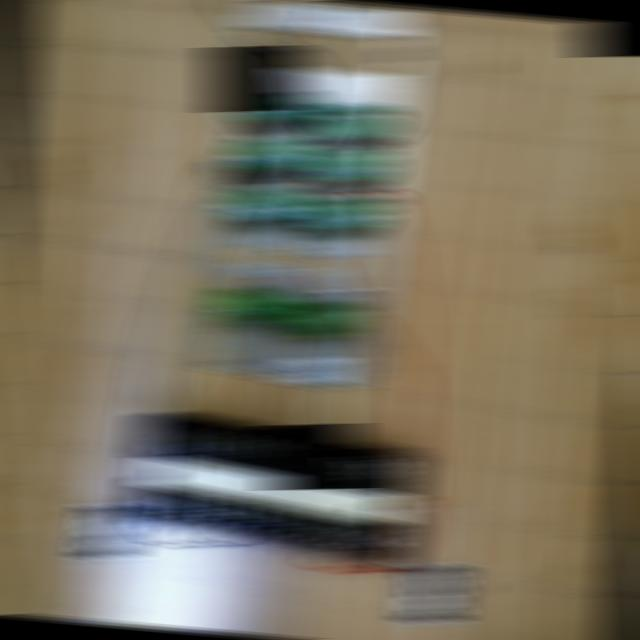Flathead_Block: (124, 408, 428, 570)
Terminal_1: (283, 295, 359, 341), (214, 284, 289, 324)
Terminal_2: (228, 182, 300, 222), (306, 192, 378, 231), (312, 144, 384, 183), (234, 135, 306, 171), (241, 87, 312, 122)
